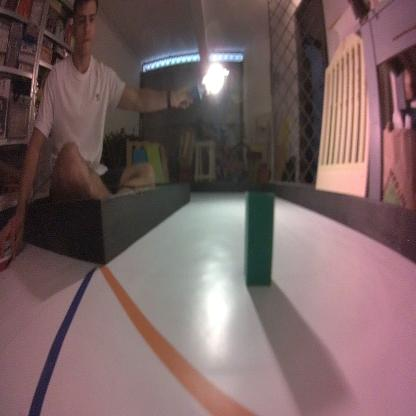green: (242, 187, 275, 288)
